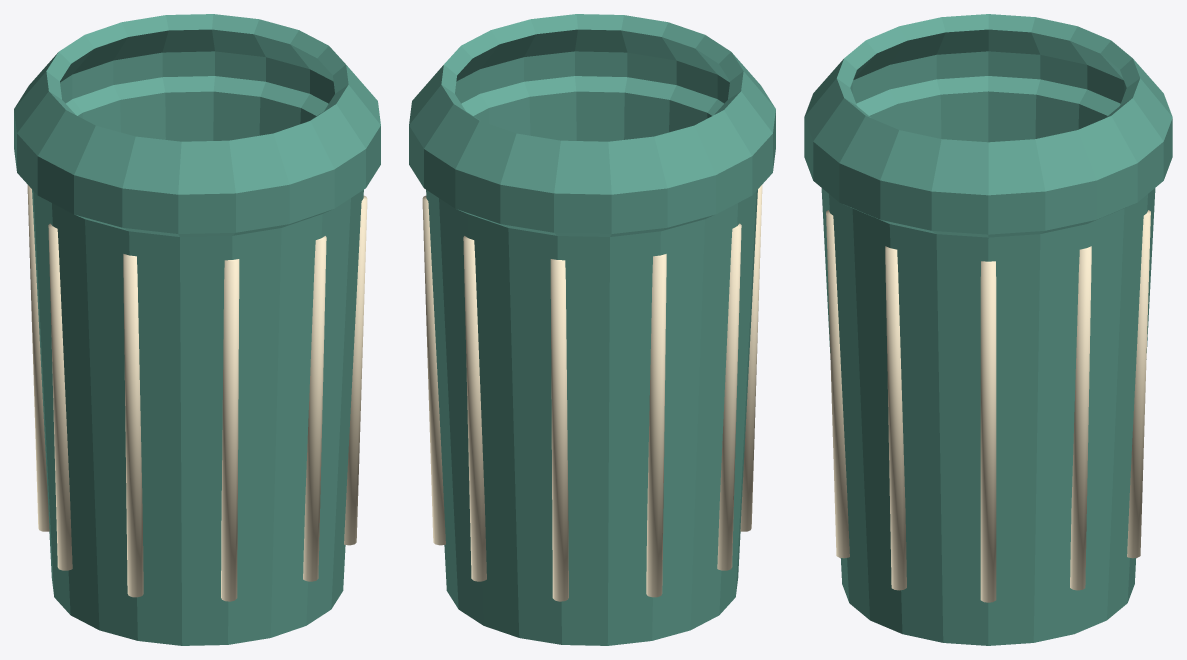
File: Street_bin.fbx
3 views of the same model, side by side, from view 1: azimuth 30°, elevation 25°; view 2: azimuth 150°, elevation 25°; view 3: azimuth 270°, elevation 25° (orthographic).
Visible parts, largest first — view 1: Town_Street_bin Bin body.001, Town_Street_bin Bin rib.017, Town_Street_bin Bin rib.016, Town_Street_bin Bin rib.018, Town_Street_bin Bin rib.015, Town_Street_bin Bin rib.019, Town_Street_bin Bin rib.014; view 2: Town_Street_bin Bin body.001, Town_Street_bin Bin rib.013, Town_Street_bin Bin rib.014, Town_Street_bin Bin rib.012, Town_Street_bin Bin rib.015, Town_Street_bin Bin rib.011, Town_Street_bin Bin rib.016; view 3: Town_Street_bin Bin body.001, Town_Street_bin Bin rib.010, Town_Street_bin Bin rib.011, Town_Street_bin Bin rib.019, Town_Street_bin Bin rib.012, Town_Street_bin Bin rib.018.
Boxes of the visible parts, x1,y1,x2,y2 form: Town_Street_bin Bin body.001: [14, 14, 380, 645]; Town_Street_bin Bin rib.017: [221, 259, 239, 601]; Town_Street_bin Bin rib.016: [123, 254, 143, 597]; Town_Street_bin Bin rib.018: [303, 236, 326, 581]; Town_Street_bin Bin rib.015: [48, 223, 72, 570]; Town_Street_bin Bin rib.019: [344, 195, 367, 545]; Town_Street_bin Bin rib.014: [27, 185, 49, 531]; Town_Street_bin Bin body.001: [409, 14, 775, 645]; Town_Street_bin Bin rib.013: [550, 259, 568, 601]; Town_Street_bin Bin rib.014: [646, 254, 666, 597]; Town_Street_bin Bin rib.012: [463, 236, 486, 581]; Town_Street_bin Bin rib.015: [717, 223, 741, 570]; Town_Street_bin Bin rib.011: [422, 195, 445, 545]; Town_Street_bin Bin rib.016: [740, 185, 762, 531]; Town_Street_bin Bin body.001: [804, 14, 1172, 645]; Town_Street_bin Bin rib.010: [980, 261, 996, 602]; Town_Street_bin Bin rib.011: [1070, 246, 1091, 590]; Town_Street_bin Bin rib.019: [885, 246, 906, 590]; Town_Street_bin Bin rib.012: [1127, 210, 1150, 558]; Town_Street_bin Bin rib.018: [826, 210, 849, 558].
Size of the model in its own units: 68 by 103 by 68.
